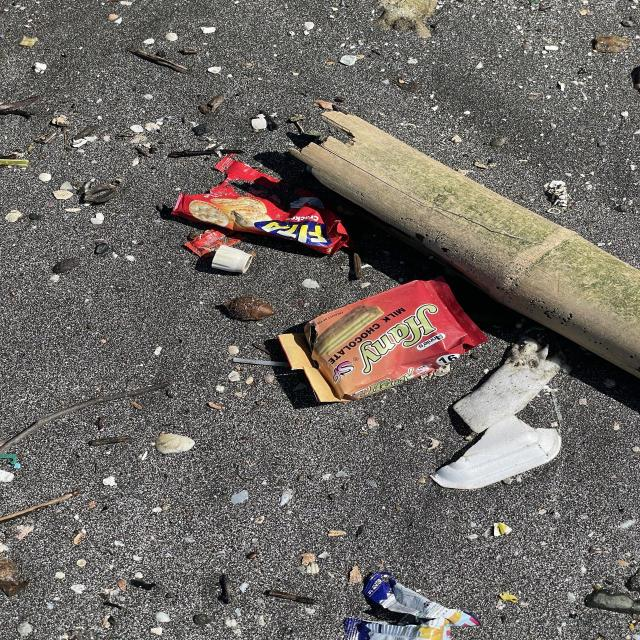plastic_waste: (279, 277, 488, 401), (171, 160, 352, 259), (352, 569, 482, 639)
styrofoam_waste: (436, 417, 566, 489)
